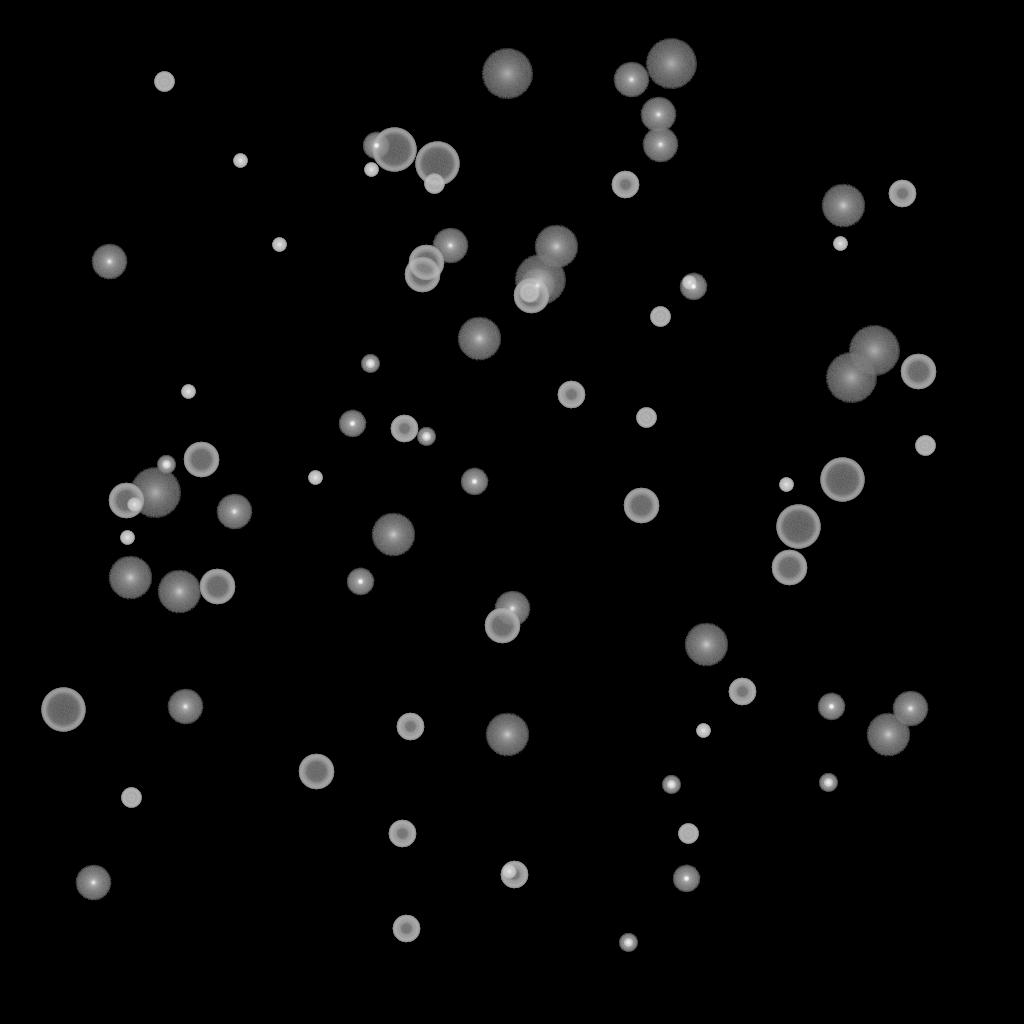depth:-10: (679, 273, 707, 301), (460, 468, 488, 496), (346, 568, 374, 596), (817, 693, 845, 721), (672, 865, 700, 893), (338, 410, 366, 438), (362, 132, 390, 160)
depth:-20: (417, 428, 435, 446), (157, 456, 175, 474), (662, 776, 680, 794), (819, 774, 837, 792), (361, 355, 379, 373), (619, 934, 637, 952)
depth:-30: (272, 238, 286, 252), (308, 471, 322, 485), (696, 724, 710, 738), (364, 163, 378, 177), (502, 865, 516, 879), (120, 531, 134, 545), (833, 237, 847, 251), (181, 385, 195, 399), (127, 498, 141, 512), (779, 478, 793, 492), (233, 154, 247, 168), (682, 276, 696, 290)
depth:-40: (519, 283, 539, 303), (424, 174, 444, 194), (650, 307, 670, 327), (678, 824, 698, 844), (121, 788, 141, 808), (154, 72, 174, 92), (915, 436, 935, 456), (636, 408, 656, 428)
depth:-50: (390, 415, 418, 443), (500, 861, 528, 889), (557, 381, 585, 409), (728, 678, 756, 706), (611, 171, 639, 199), (392, 915, 420, 943), (396, 713, 424, 741), (888, 180, 916, 208), (388, 820, 416, 848)
depth:-60: (183, 442, 219, 478), (298, 754, 334, 790), (513, 278, 549, 314), (404, 257, 440, 293), (199, 569, 235, 605), (408, 245, 444, 281), (900, 354, 936, 390), (108, 483, 144, 519), (484, 608, 520, 644), (771, 550, 807, 586), (623, 488, 659, 524)
depth:-70: (415, 142, 459, 186), (776, 505, 820, 549), (820, 458, 864, 502), (41, 688, 85, 732), (372, 128, 416, 172)
depth:0: (640, 97, 676, 133), (75, 865, 111, 901), (642, 127, 678, 163), (91, 244, 127, 280), (519, 268, 555, 304), (167, 689, 203, 725), (613, 62, 649, 98), (494, 591, 530, 627), (432, 228, 468, 264), (216, 494, 252, 530), (892, 691, 928, 727)
depth:10: (108, 556, 152, 600), (821, 184, 865, 228), (866, 713, 910, 757), (485, 713, 529, 757), (534, 225, 578, 269), (457, 317, 501, 361), (371, 513, 415, 557), (684, 623, 728, 667), (157, 570, 201, 614)
depth:20: (514, 255, 566, 305), (481, 49, 533, 99), (825, 353, 877, 403), (129, 468, 181, 518), (848, 326, 900, 376), (645, 39, 697, 89)
